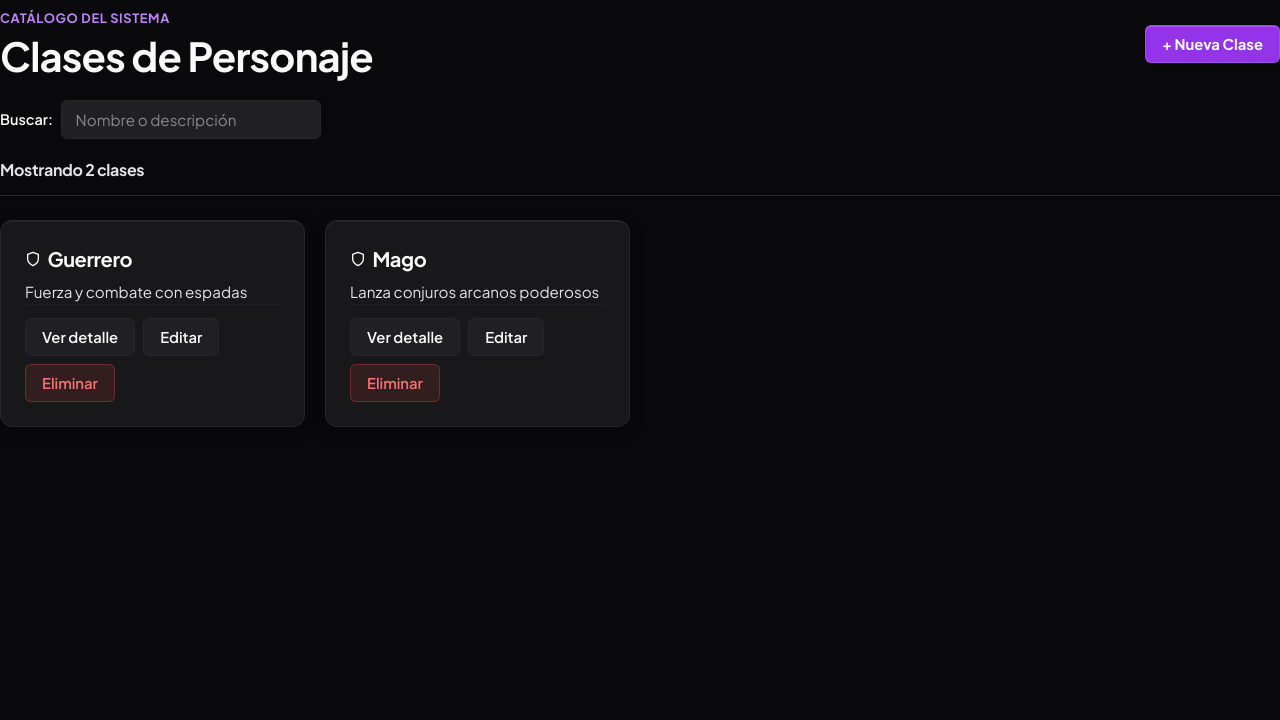
Scenario: ClasesPage › permite seleccionar una clase para ver su detalle
Click the heading "Guerrero": (79, 258) [25,246,132,271]
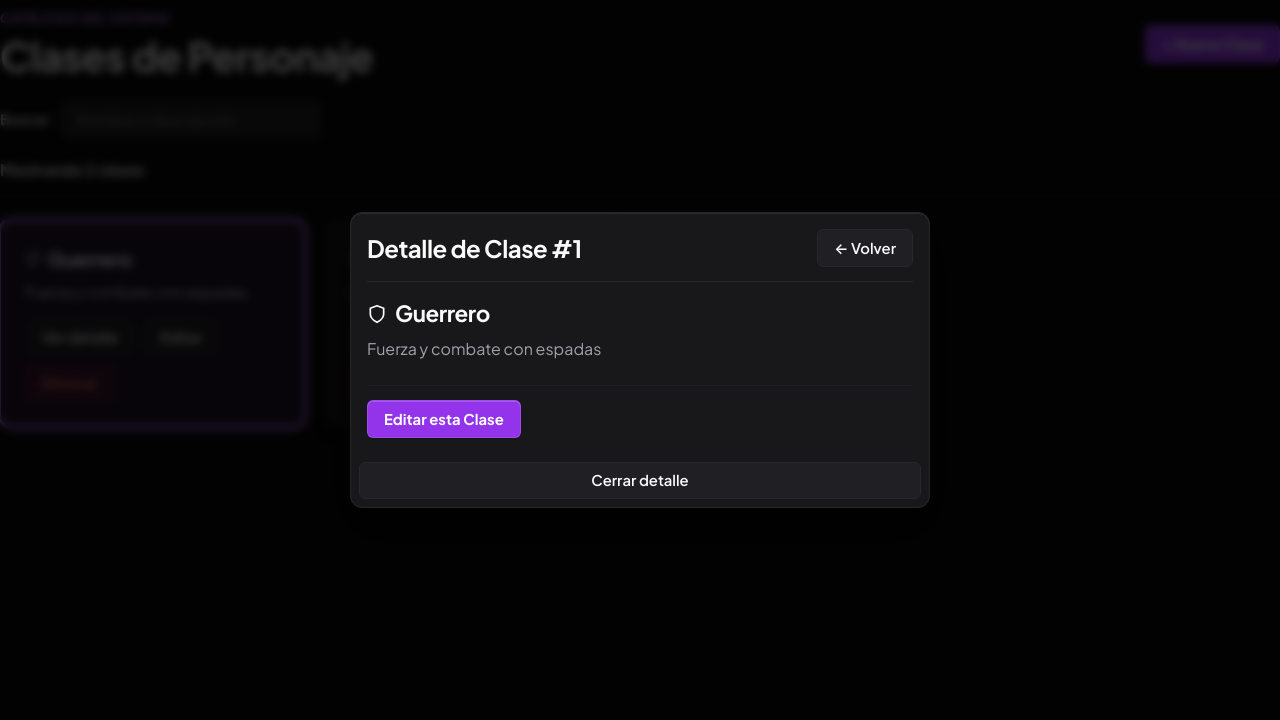
Now the button "Cerrar detalle" is shown
Click the button "Cerrar detalle": (640, 480) [359,462,921,499]
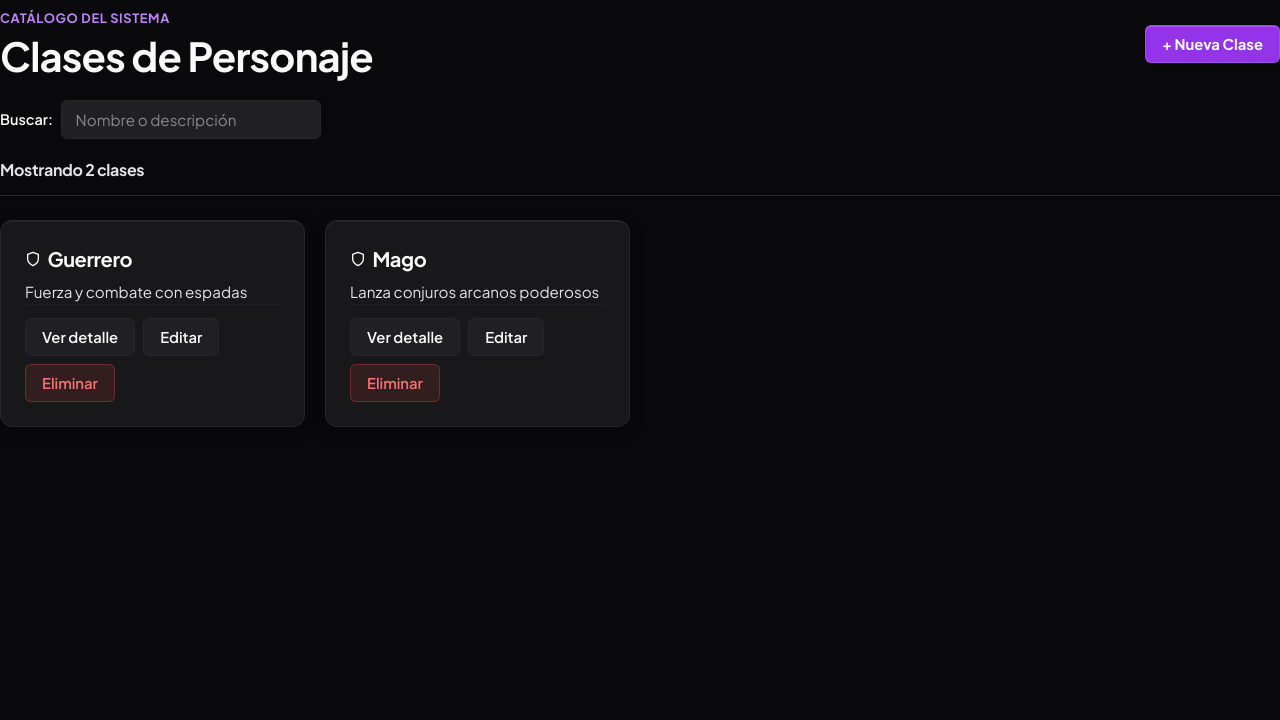
Now the button "Cerrar detalle" is gone
